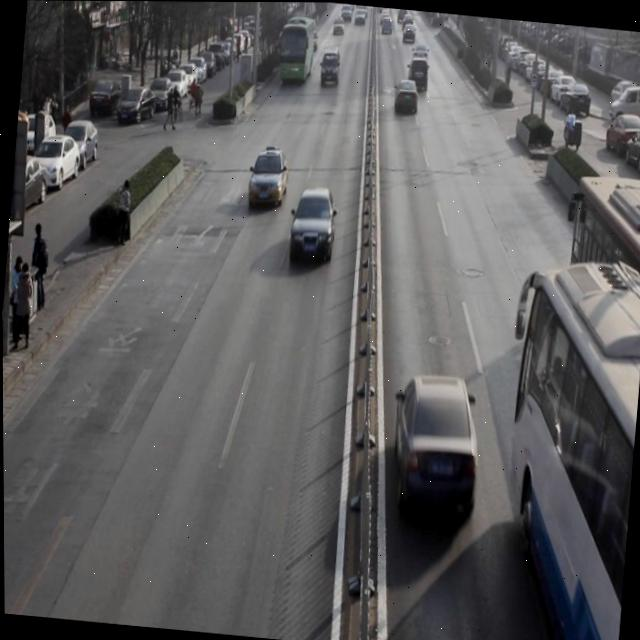car: (385, 372, 488, 528), (287, 187, 340, 262), (246, 143, 291, 208), (392, 77, 421, 115), (405, 54, 431, 93)
truck: (318, 45, 343, 86)
van: (494, 257, 640, 640), (554, 174, 640, 432), (274, 17, 315, 90)
